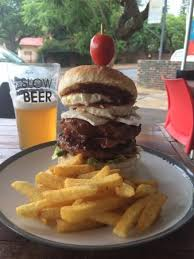hamburger: (55, 63, 141, 183)
